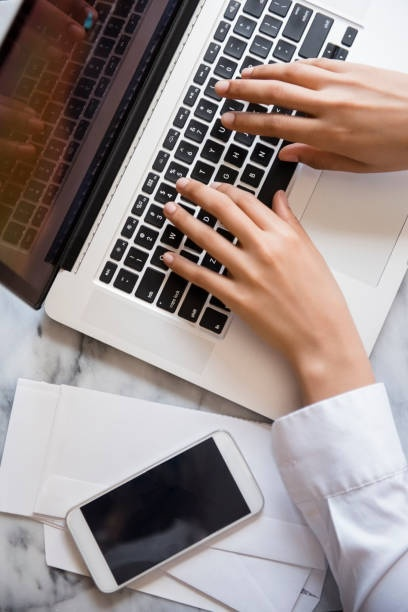keyboard: (98, 1, 361, 344)
phone: (62, 428, 267, 595)
